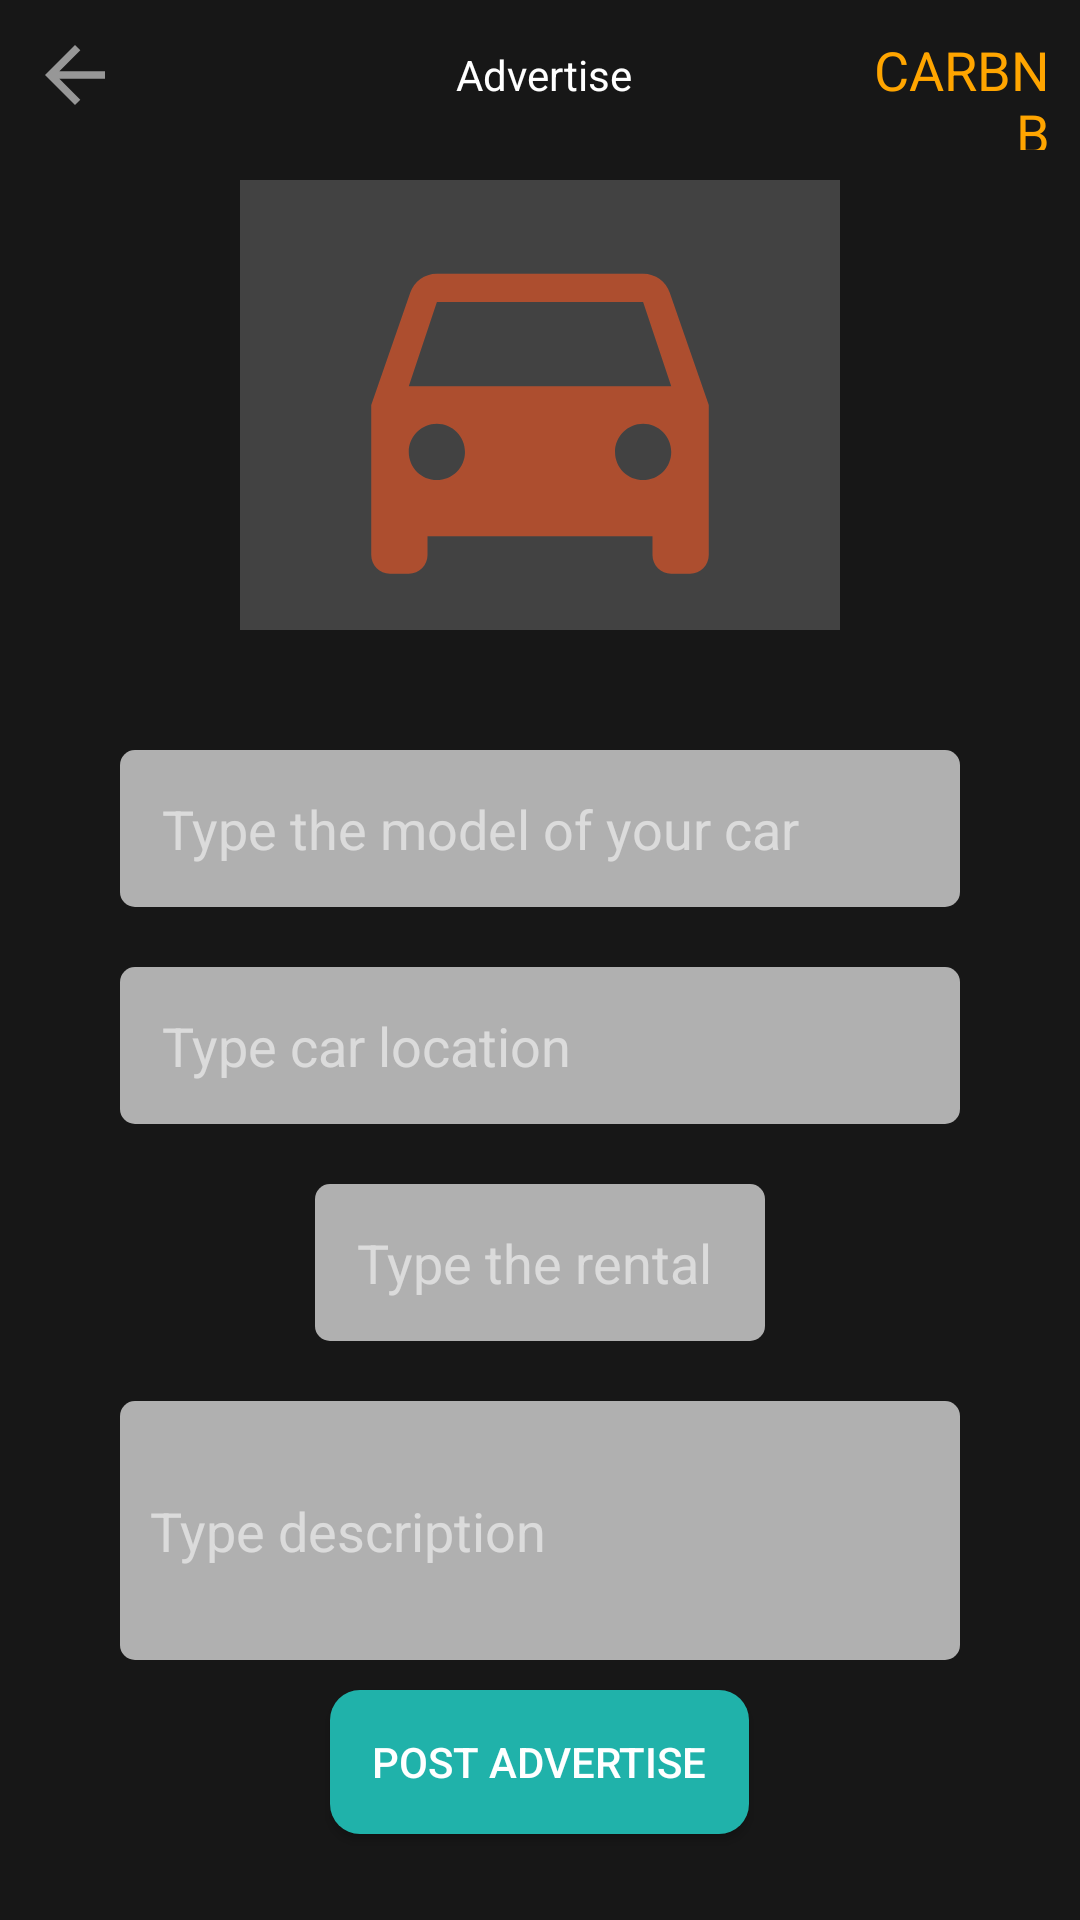

Icon click points for this 1080px×1920px phone screenshot, format (x=x, y=y):
backarrow: (x=75, y=75)
